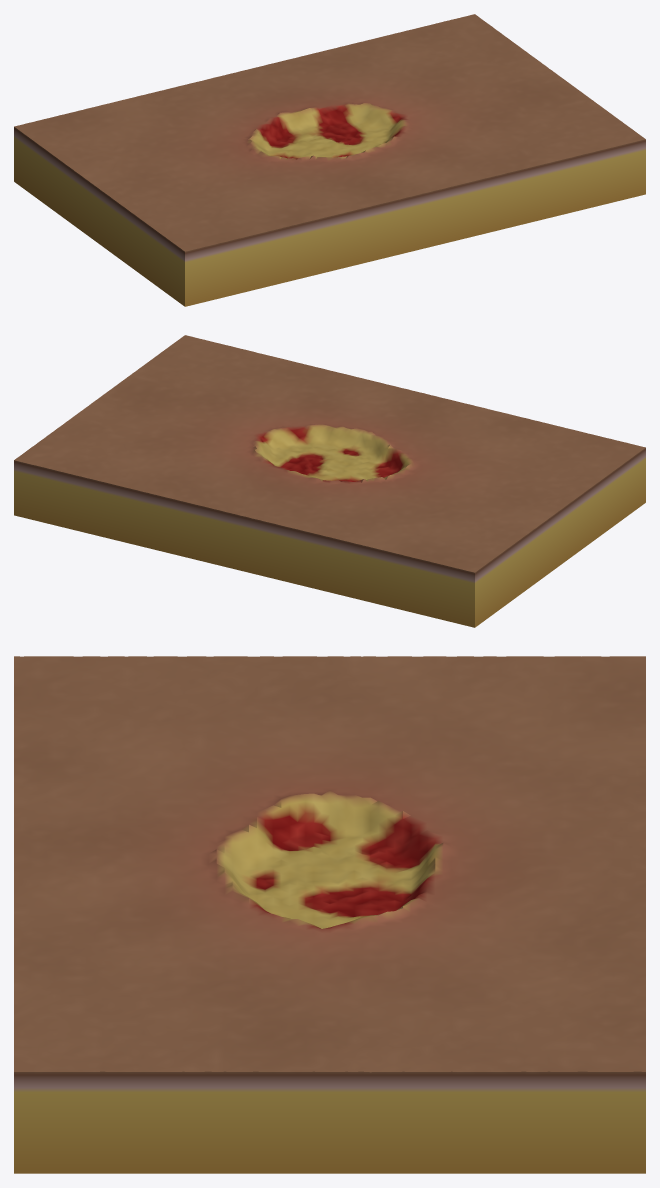
The model's file is care_fibrine.glb.
3 renders of one model, top to bottom at view 1: azimuth 30°, elevation 25°; view 2: azimuth 150°, elevation 25°; view 3: azimuth 270°, elevation 25°, orthographic. The views are drawn at different scales.
Visible parts, largest first — view 1: care_fibrine; view 2: care_fibrine; view 3: care_fibrine.
Boxes of the visible parts, x1,y1,x2,y2 form: care_fibrine: (14, 14, 645, 306); care_fibrine: (14, 335, 645, 627); care_fibrine: (14, 656, 645, 1173).
Bounding box in the file's own units: 14 × 1.68 × 9.
